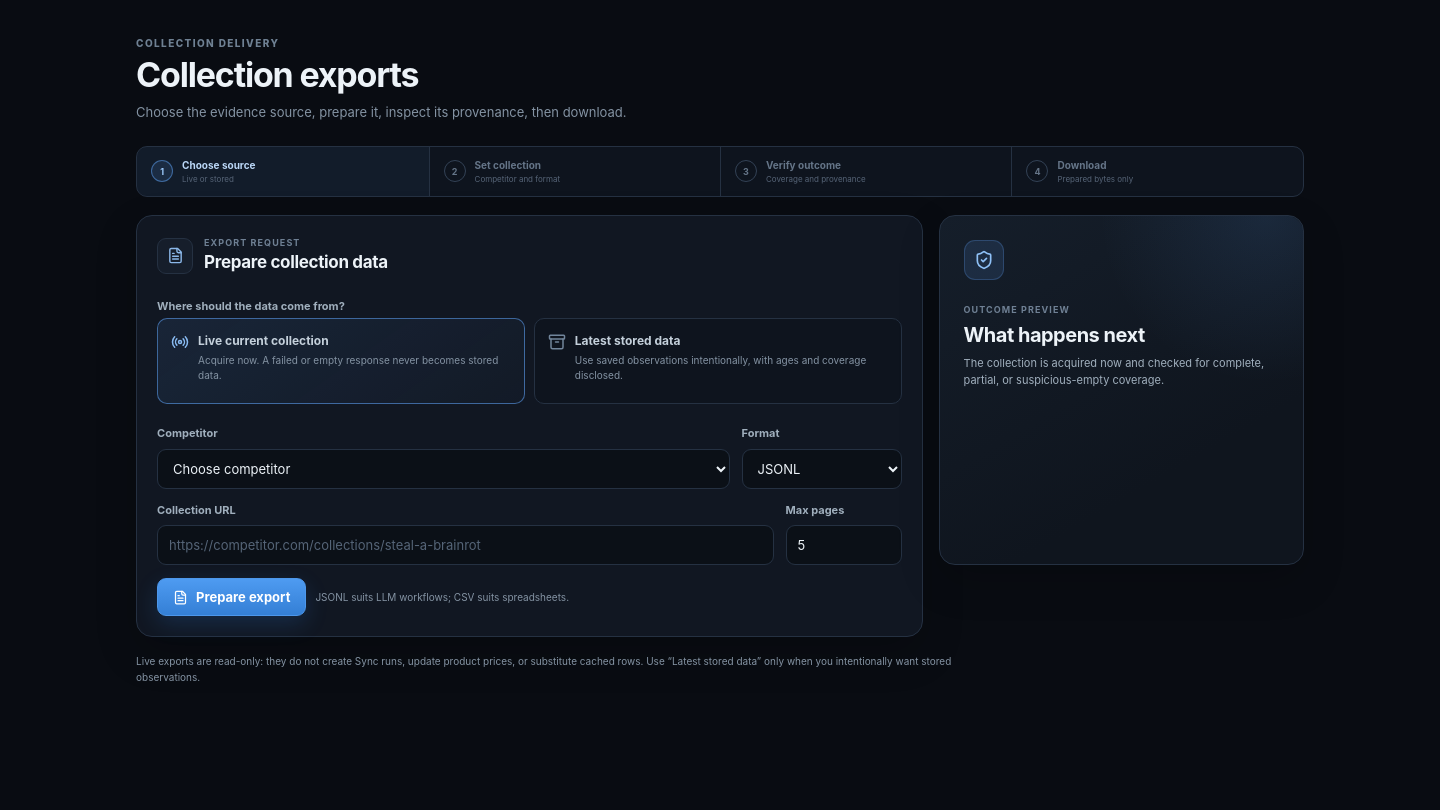
Scenario: Collection exports daily-use states › prepares a complete live export before offering the browser download
The width and height of the screenshot is (1440, 810).
Select "Alpha Store" in the dropdown labelled "Competitor" at (443,469), box x1=157 y1=449 x2=730 y2=489
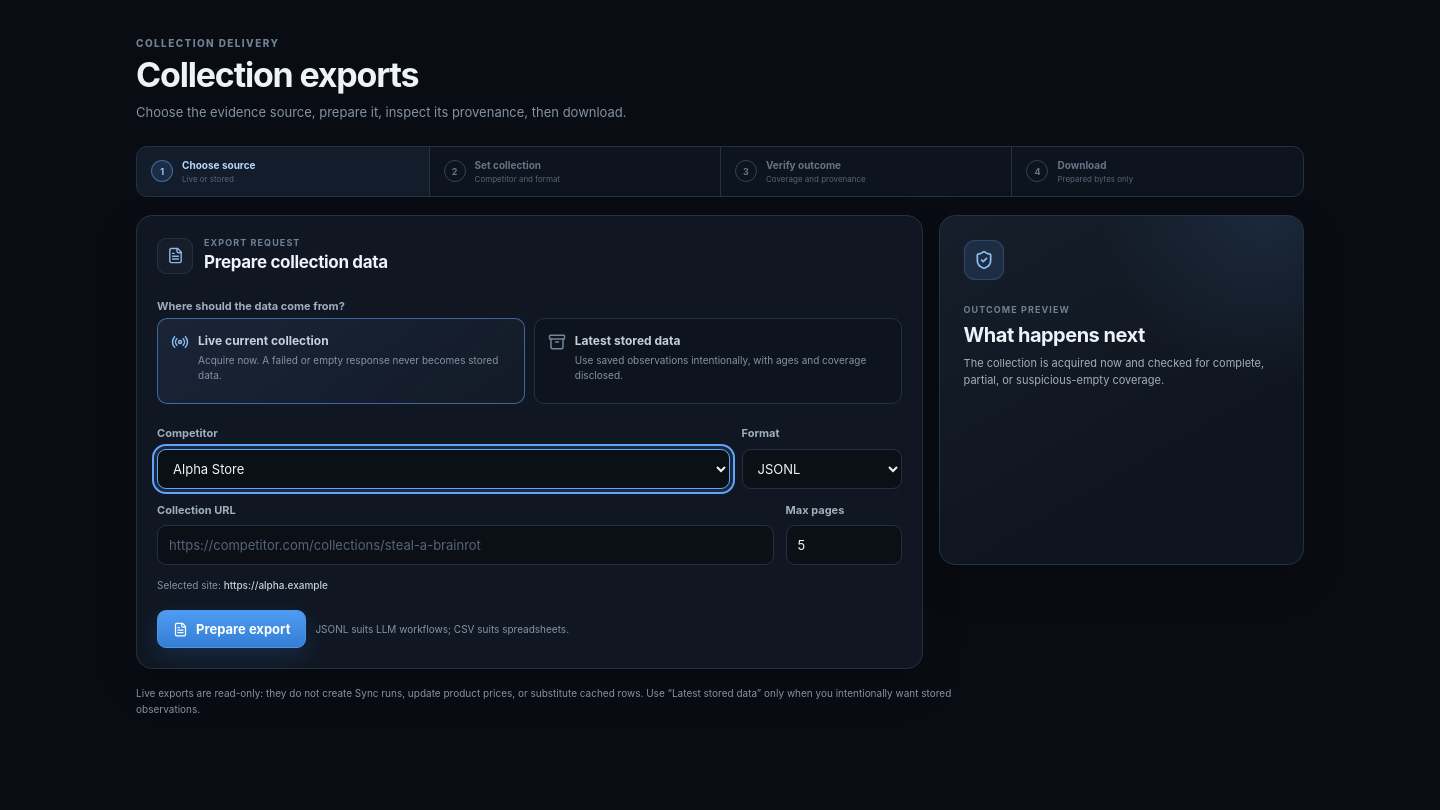
Type "https://alpha.example/collections/murder-mystery-2" into the field labelled "Collection URL" at (465,545), box x1=157 y1=525 x2=774 y2=565
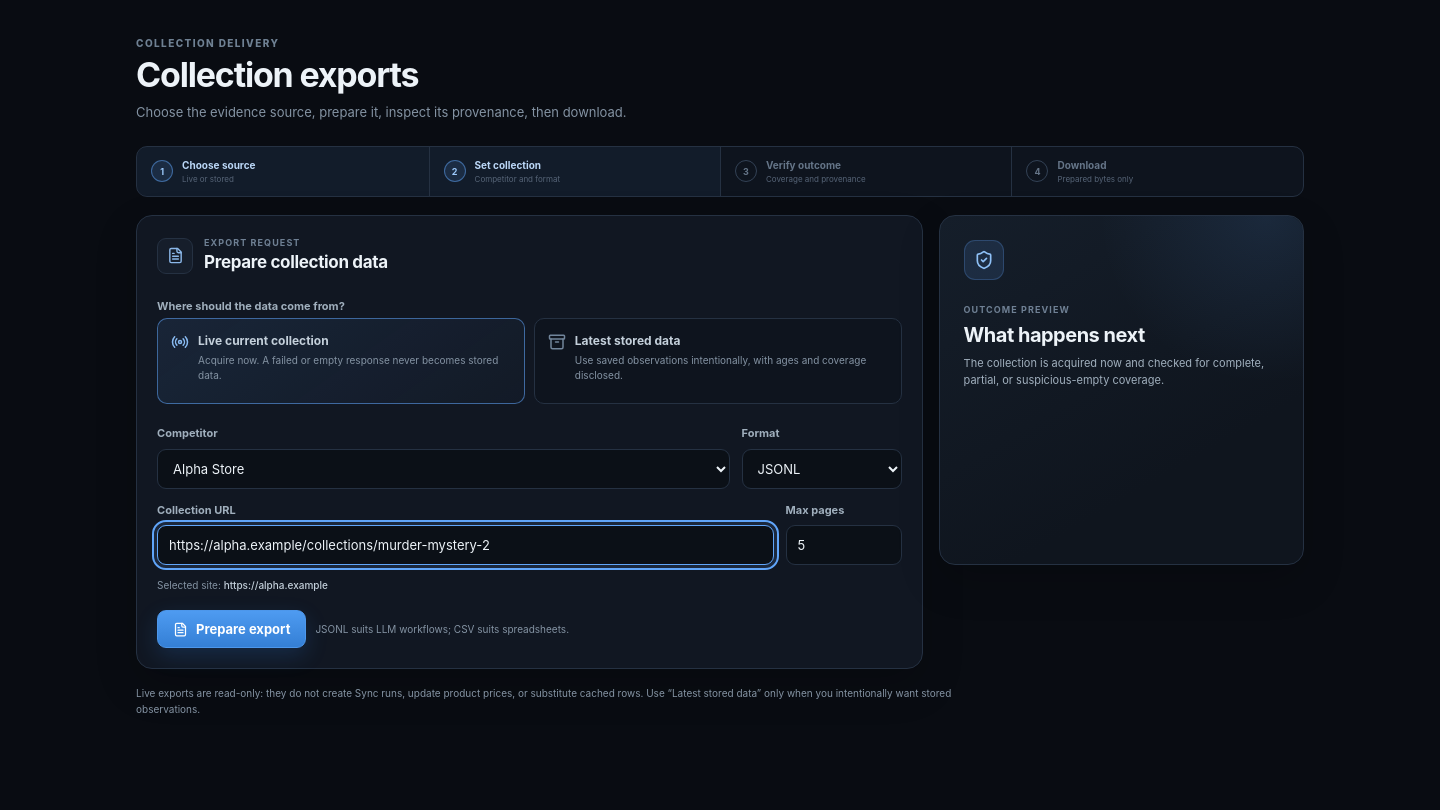
Click the button "Prepare export" at (232,629), box x1=157 y1=610 x2=306 y2=648
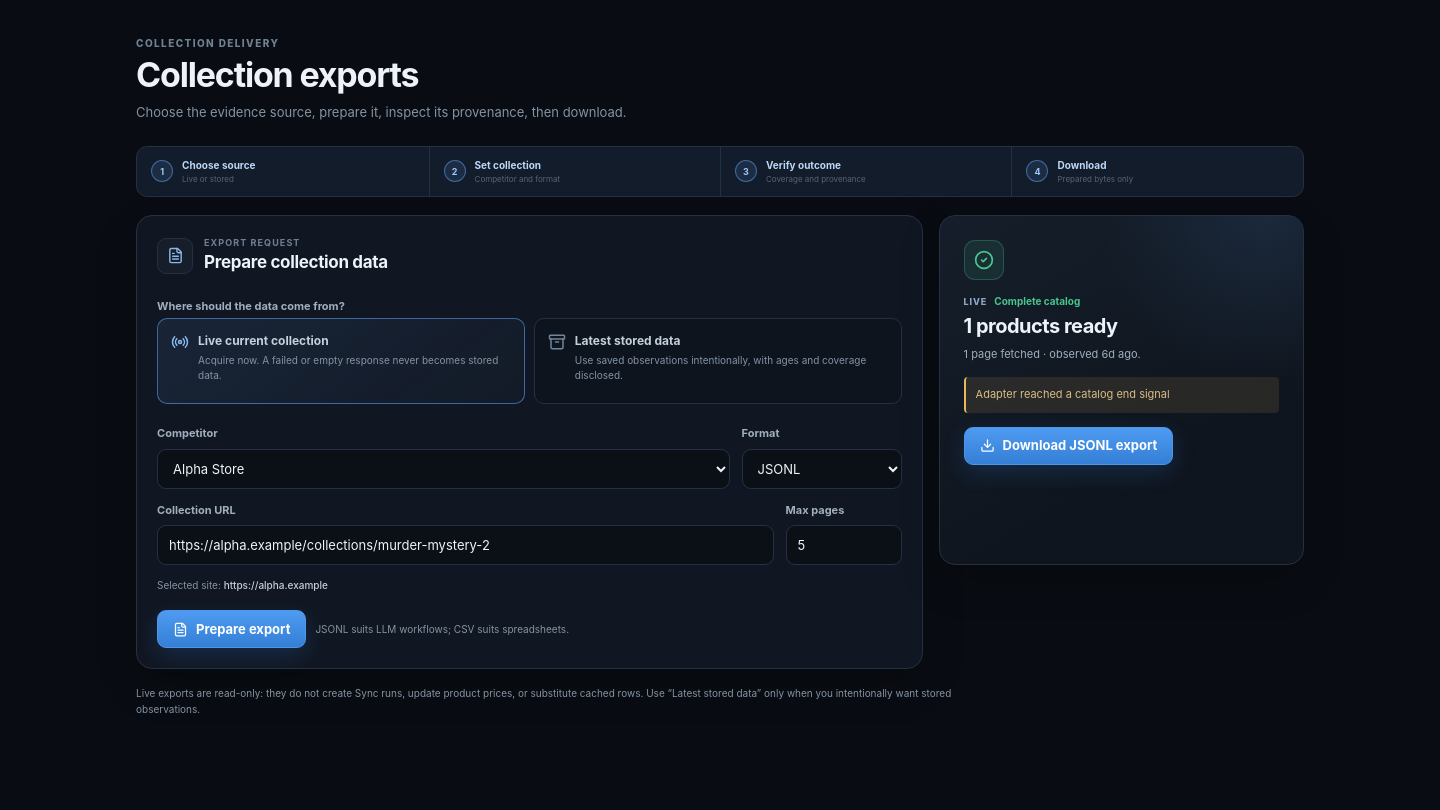
Expected: the text "Complete catalog" is shown, x1=994 y1=294 x2=1080 y2=309
Expected: the heading "1 products ready" is shown, x1=964 y1=314 x2=1118 y2=338
Expected: the button "Download JSONL export" is shown, x1=964 y1=427 x2=1173 y2=465
